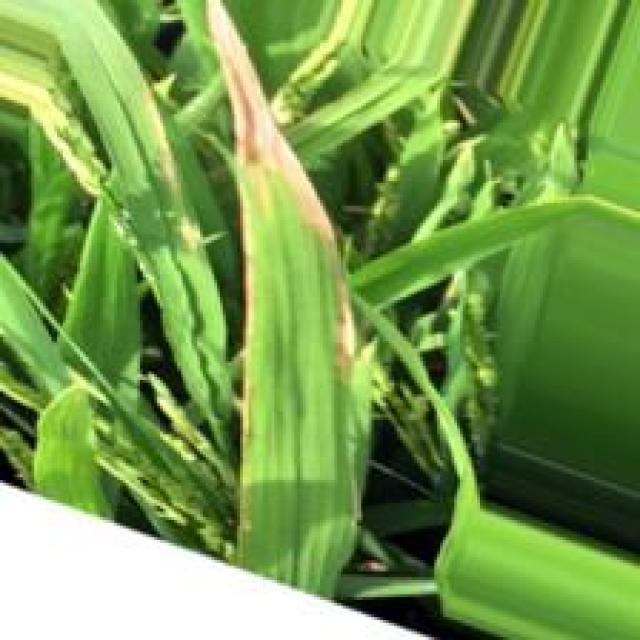Unhealthy: (207, 0, 340, 255), (140, 82, 179, 182), (334, 278, 354, 369), (175, 212, 201, 246)
